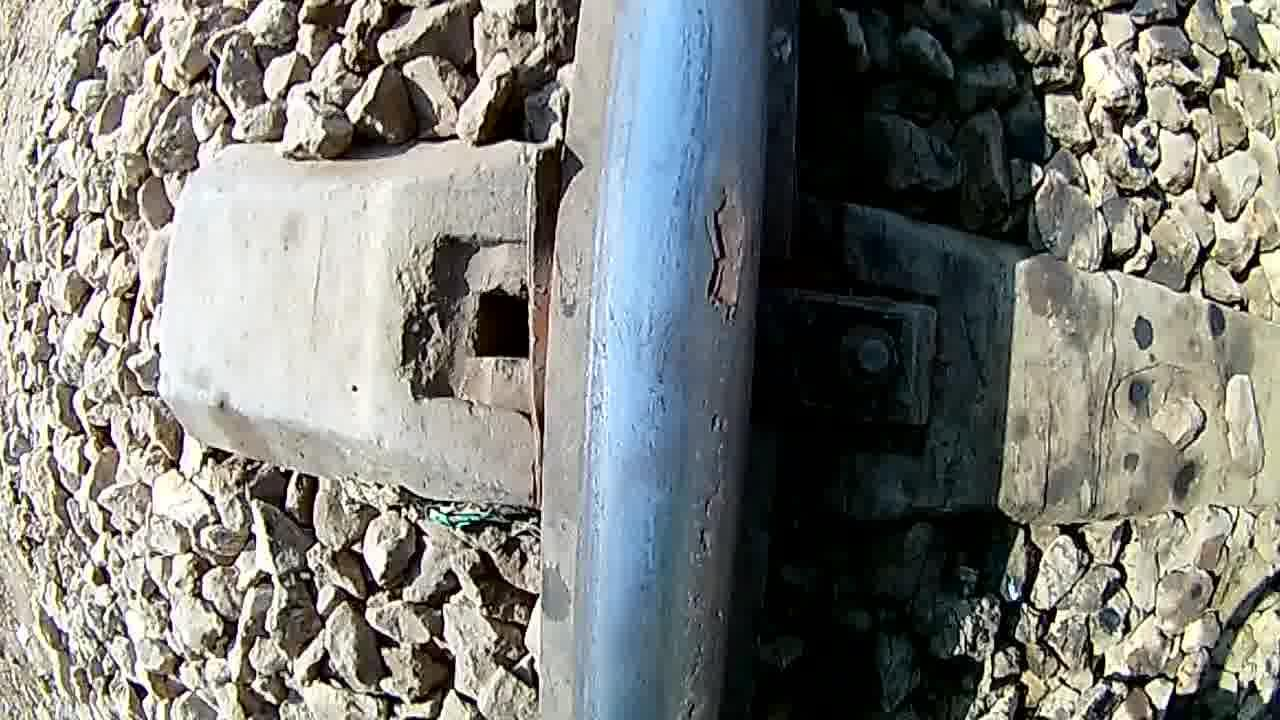crack: (593, 4, 771, 720)
